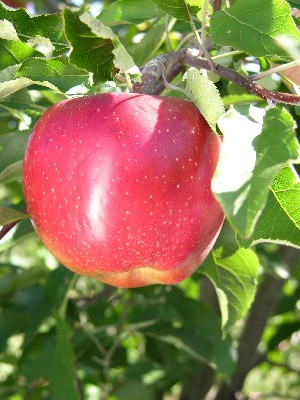apple: (19, 89, 228, 291)
